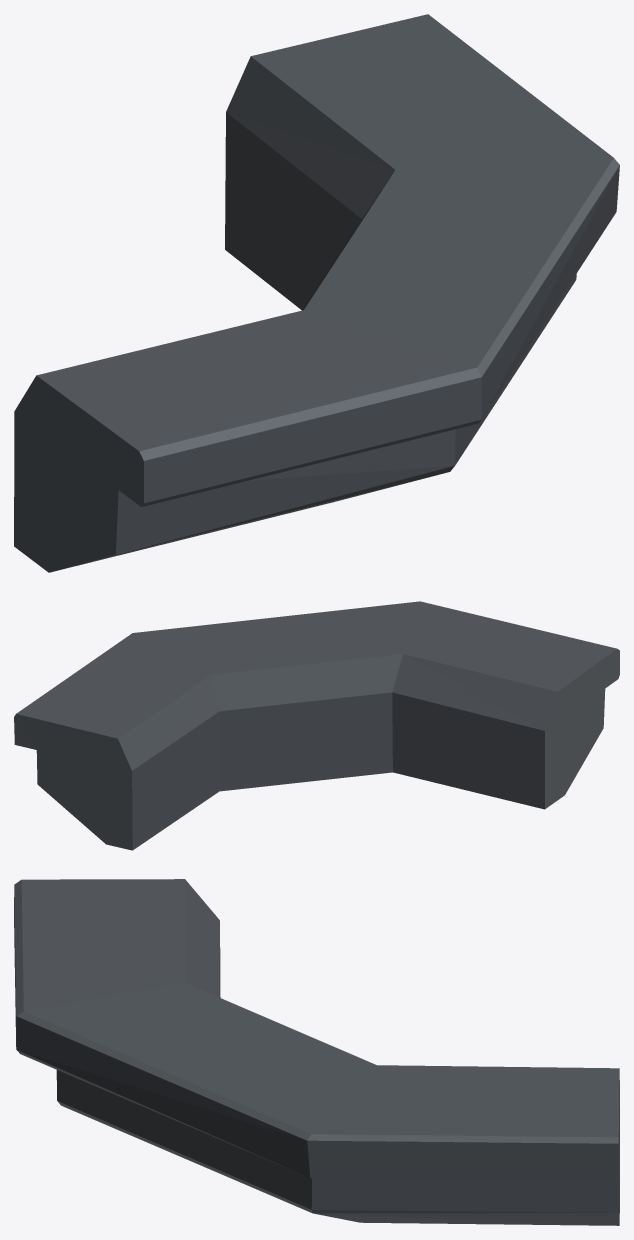
The model's file is MCastle_TurretMasonry_02.FBX.
The picture shows the model from 3 angles, top to bottom: view 1: azimuth 30°, elevation 25°; view 2: azimuth 150°, elevation 25°; view 3: azimuth 270°, elevation 25°; orthographic projection. The views are drawn at different scales.
Parts seen in each view (by area): view 1: MCastle_TurretMasonry_02_LOD0; view 2: MCastle_TurretMasonry_02_LOD0; view 3: MCastle_TurretMasonry_02_LOD0.
Boxes of the visible parts, left/top/right/bottom form: MCastle_TurretMasonry_02_LOD0: left=14, top=14, right=619, bottom=572; MCastle_TurretMasonry_02_LOD0: left=14, top=601, right=619, bottom=850; MCastle_TurretMasonry_02_LOD0: left=14, top=879, right=619, bottom=1225.
Size of what is drawn, in the model's own units: 5.59 by 1.5 by 5.52.
